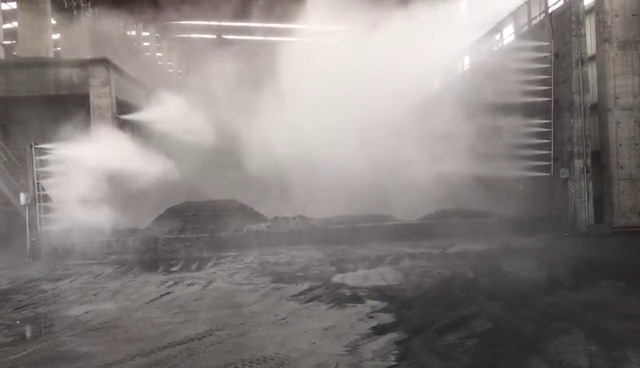dust: (60, 10, 524, 254)
